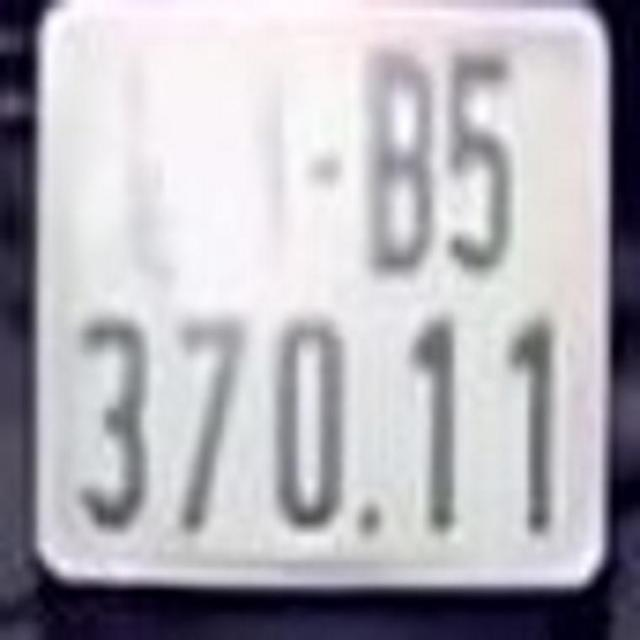0: (272, 312, 346, 530)
1: (497, 306, 567, 544), (400, 313, 468, 537)
3: (73, 304, 146, 543)
5: (445, 33, 517, 274)
7: (173, 308, 250, 532)
B: (357, 44, 438, 276)
